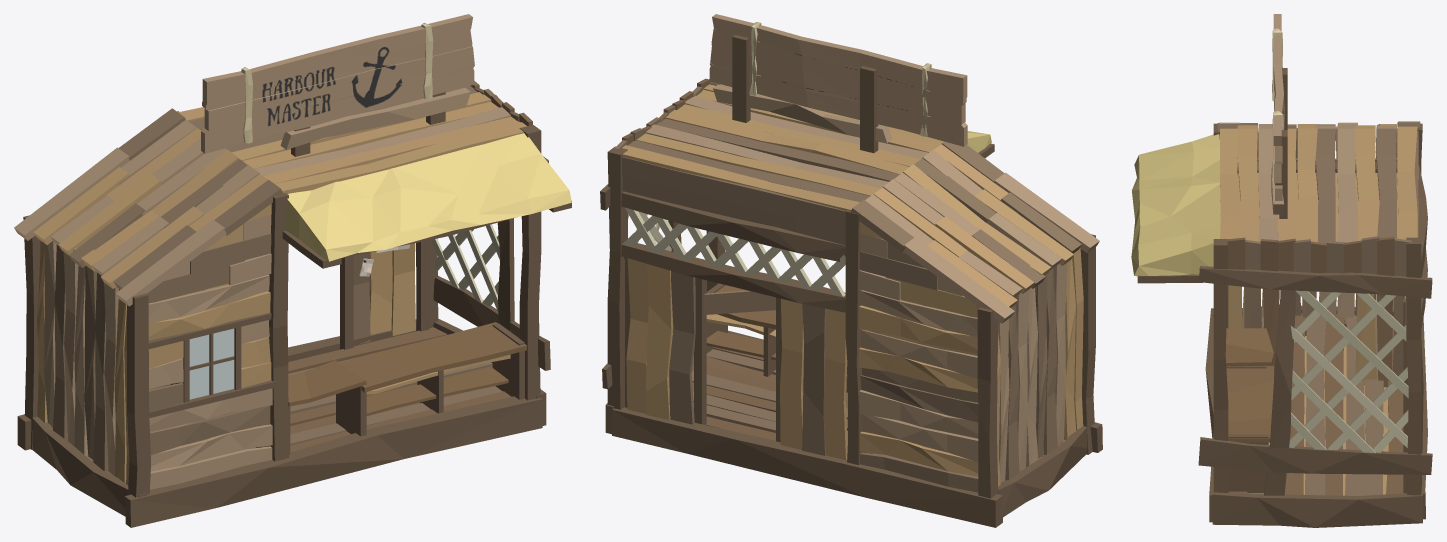
The model's file is Harbour Master.fbx.
3 views of the same model, side by side, from view 1: azimuth 30°, elevation 25°; view 2: azimuth 150°, elevation 25°; view 3: azimuth 270°, elevation 25° (orthographic). The views are drawn at different scales.
Visible parts, largest first — view 1: Harbour_Master; view 2: Harbour_Master; view 3: Harbour_Master.
Boxes of the visible parts, x1=… form: Harbour_Master: x1=14, y1=14, x2=571, y2=527; Harbour_Master: x1=600, y1=14, x2=1102, y2=527; Harbour_Master: x1=1131, y1=14, x2=1432, y2=527.
Size of the model in its own units: 430 by 379 by 278.
Materials: 1 (1 with a texture image).
